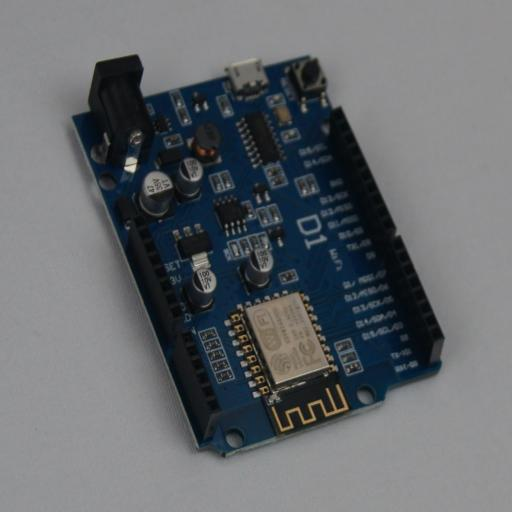Arduino Uno WiFi Shield: (72, 54, 444, 458)
